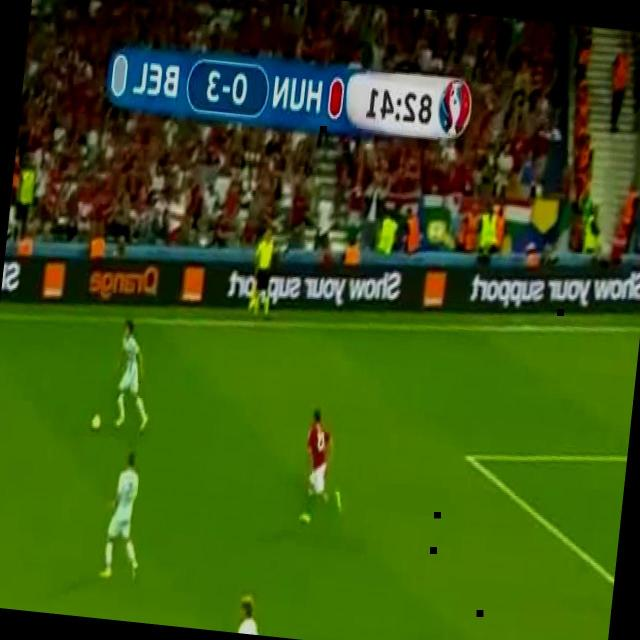ball: (90, 412, 102, 430)
player-white: (99, 451, 149, 583), (299, 407, 351, 527), (112, 321, 157, 435), (250, 228, 277, 319), (236, 594, 274, 636)
